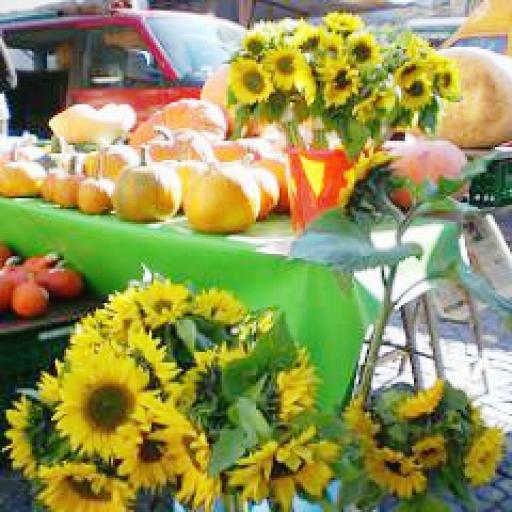sunflower: (53, 352, 154, 459), (232, 429, 344, 510), (147, 401, 218, 512), (36, 461, 130, 512), (277, 346, 320, 416), (365, 448, 424, 495), (190, 280, 252, 324), (465, 420, 501, 482), (136, 280, 186, 322), (230, 58, 271, 102), (322, 60, 359, 104), (267, 47, 303, 87), (407, 438, 446, 472), (393, 76, 433, 106), (346, 34, 378, 68), (324, 13, 367, 32), (435, 66, 459, 94), (241, 32, 269, 55)
